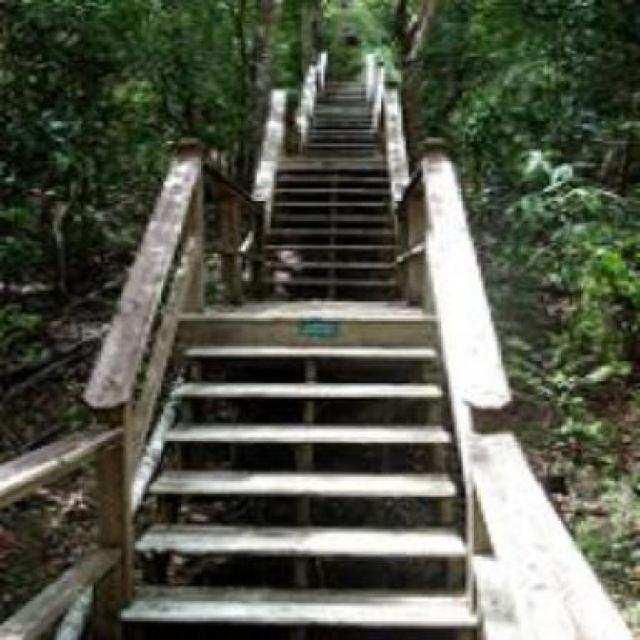stair: (100, 304, 491, 640)
